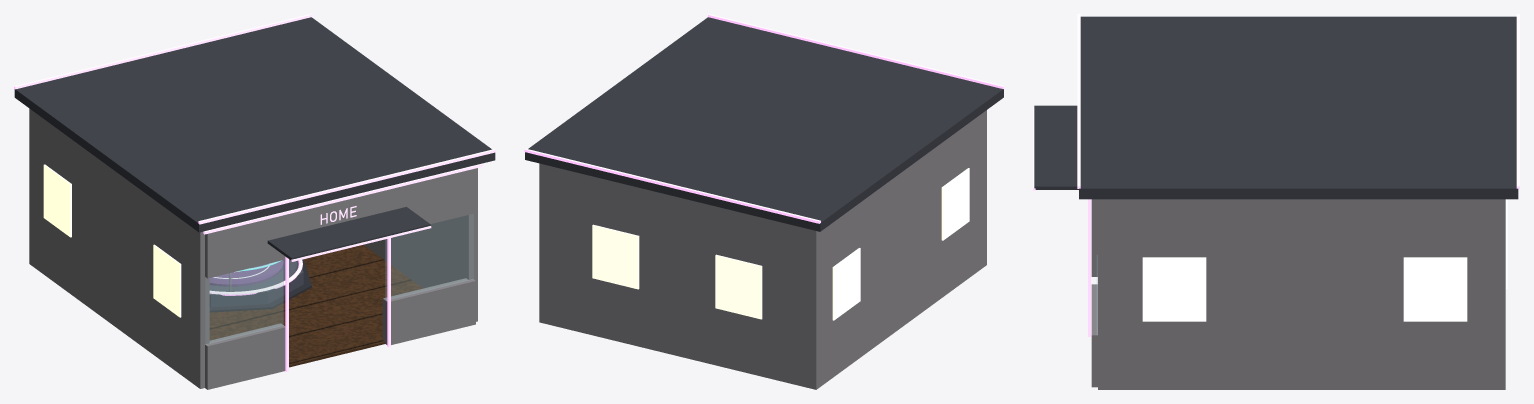
Rendered from pod.glb.
The picture shows the model from 3 angles, left to right: view 1: azimuth 30°, elevation 25°; view 2: azimuth 150°, elevation 25°; view 3: azimuth 270°, elevation 25°; orthographic projection. The views are drawn at different scales.
Visible parts, largest first — view 1: Roof, Back wall, Floor, Dome, Awning, Side window, Neon ring, Plinth, Roof edge, Roof edge.001, Bed, Step; view 2: Back wall, Roof, Side window, Roof edge.001, Roof edge; view 3: Roof, Back wall, Side window, Awning, Roof edge, Roof edge.001, Neon ring.
Boxes of the visible parts, box(x1,y1,x2,y2) form: Roof: box(14, 17, 495, 232); Back wall: box(29, 108, 477, 389); Floor: box(209, 244, 422, 367); Dome: box(205, 214, 473, 344); Awning: box(267, 207, 430, 260); Side window: box(43, 164, 181, 317); Neon ring: box(203, 164, 482, 371); Plinth: box(209, 259, 303, 307); Roof edge: box(198, 149, 495, 224); Roof edge.001: box(14, 14, 311, 89); Bed: box(209, 260, 283, 286); Step: box(209, 259, 311, 312); Back wall: box(539, 110, 986, 389); Roof: box(525, 17, 1003, 231); Side window: box(592, 168, 969, 320); Roof edge.001: box(524, 148, 820, 223); Roof edge: box(708, 14, 1004, 88); Roof: box(1079, 16, 1518, 199); Back wall: box(1091, 199, 1505, 389); Side window: box(1142, 199, 1507, 321); Awning: box(1034, 105, 1078, 189); Roof edge: box(1077, 14, 1080, 188); Roof edge.001: box(1516, 14, 1519, 188); Neon ring: box(1033, 107, 1090, 336).
Bounding box in the file's own units: 6.4 × 3.63 × 7.64.
Materials: 16 (2 with a texture image).
